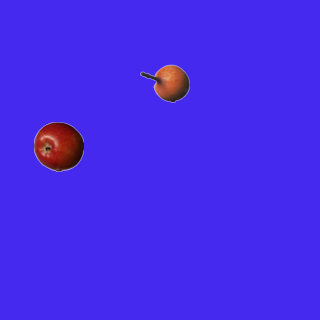Apple Braeburn: (33, 121, 83, 171)
Granadilla: (139, 58, 189, 108)
